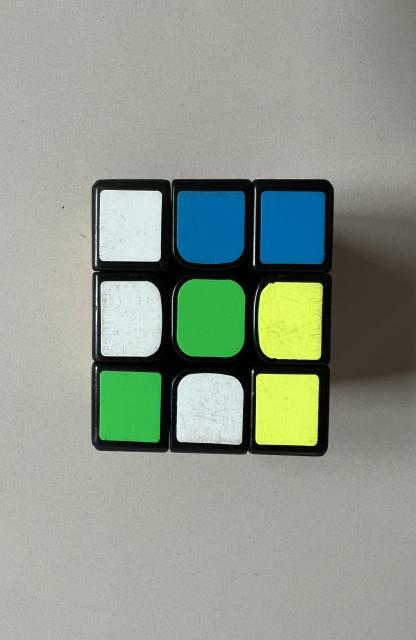Blue: (177, 191, 245, 264), (260, 191, 326, 264)
Green: (177, 279, 246, 358), (100, 370, 161, 442)
White: (177, 372, 244, 445), (101, 281, 162, 356), (99, 190, 162, 261)
Yellow: (258, 282, 323, 360), (256, 374, 320, 446)
